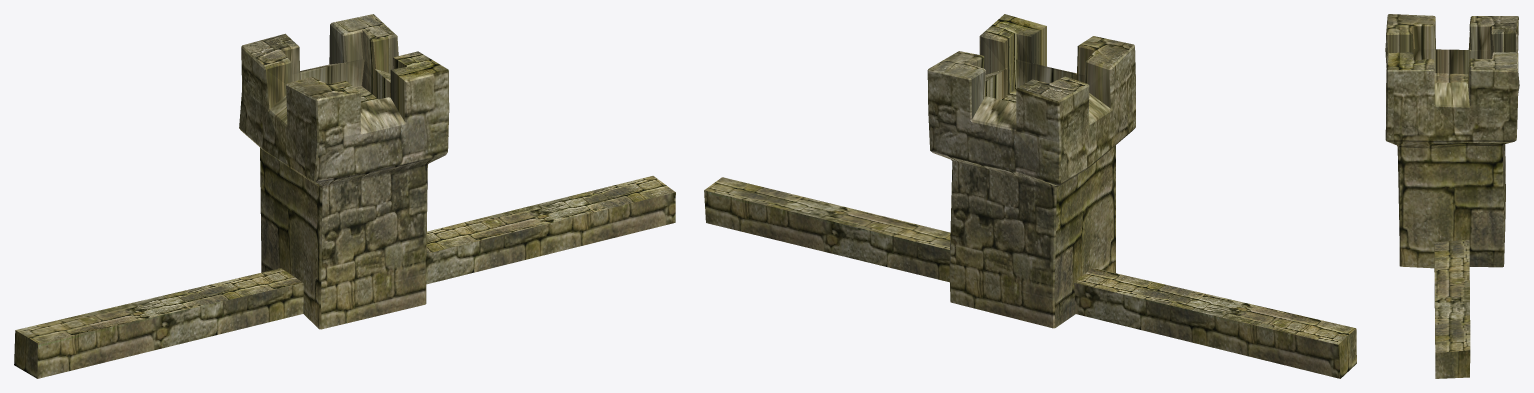
The model's file is Wall_Slices_Top_Sliced.FBX.
3 views of the same model, side by side, from view 1: azimuth 30°, elevation 25°; view 2: azimuth 150°, elevation 25°; view 3: azimuth 270°, elevation 25° (orthographic). The views are drawn at different scales.
Visible parts, largest first — view 1: Wall_Top_1, Wall_Top_3, Wall_Top_2; view 2: Wall_Top_1, Wall_Top_3, Wall_Top_2; view 3: Wall_Top_2, Wall_Top_1, Wall_Top_3.
Boxes of the visible parts, x1=… form: Wall_Top_1: x1=14, y1=14, x2=448, y2=378; Wall_Top_3: x1=149, y1=59, x2=675, y2=351; Wall_Top_2: x1=321, y1=53, x2=675, y2=251; Wall_Top_1: x1=927, y1=14, x2=1356, y2=378; Wall_Top_3: x1=706, y1=59, x2=1225, y2=350; Wall_Top_2: x1=704, y1=60, x2=1054, y2=250; Wall_Top_2: x1=1385, y1=86, x2=1517, y2=378; Wall_Top_1: x1=1385, y1=14, x2=1519, y2=105; Wall_Top_3: x1=1399, y1=82, x2=1505, y2=378.
Size of the model in its own units: 1207 by 256 by 431.
Materials: 1 (1 with a texture image).
